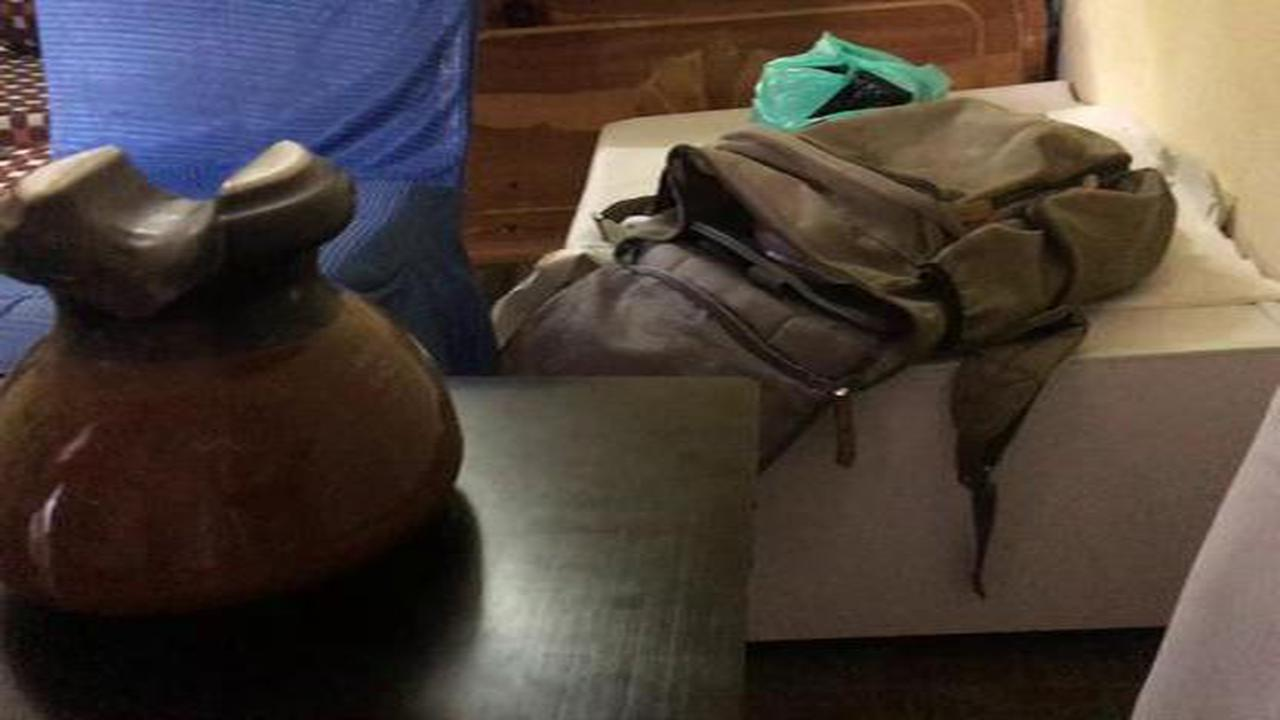insulator_pin: (19, 127, 471, 644)
